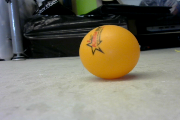PingPongBall: (80, 24, 140, 80)
